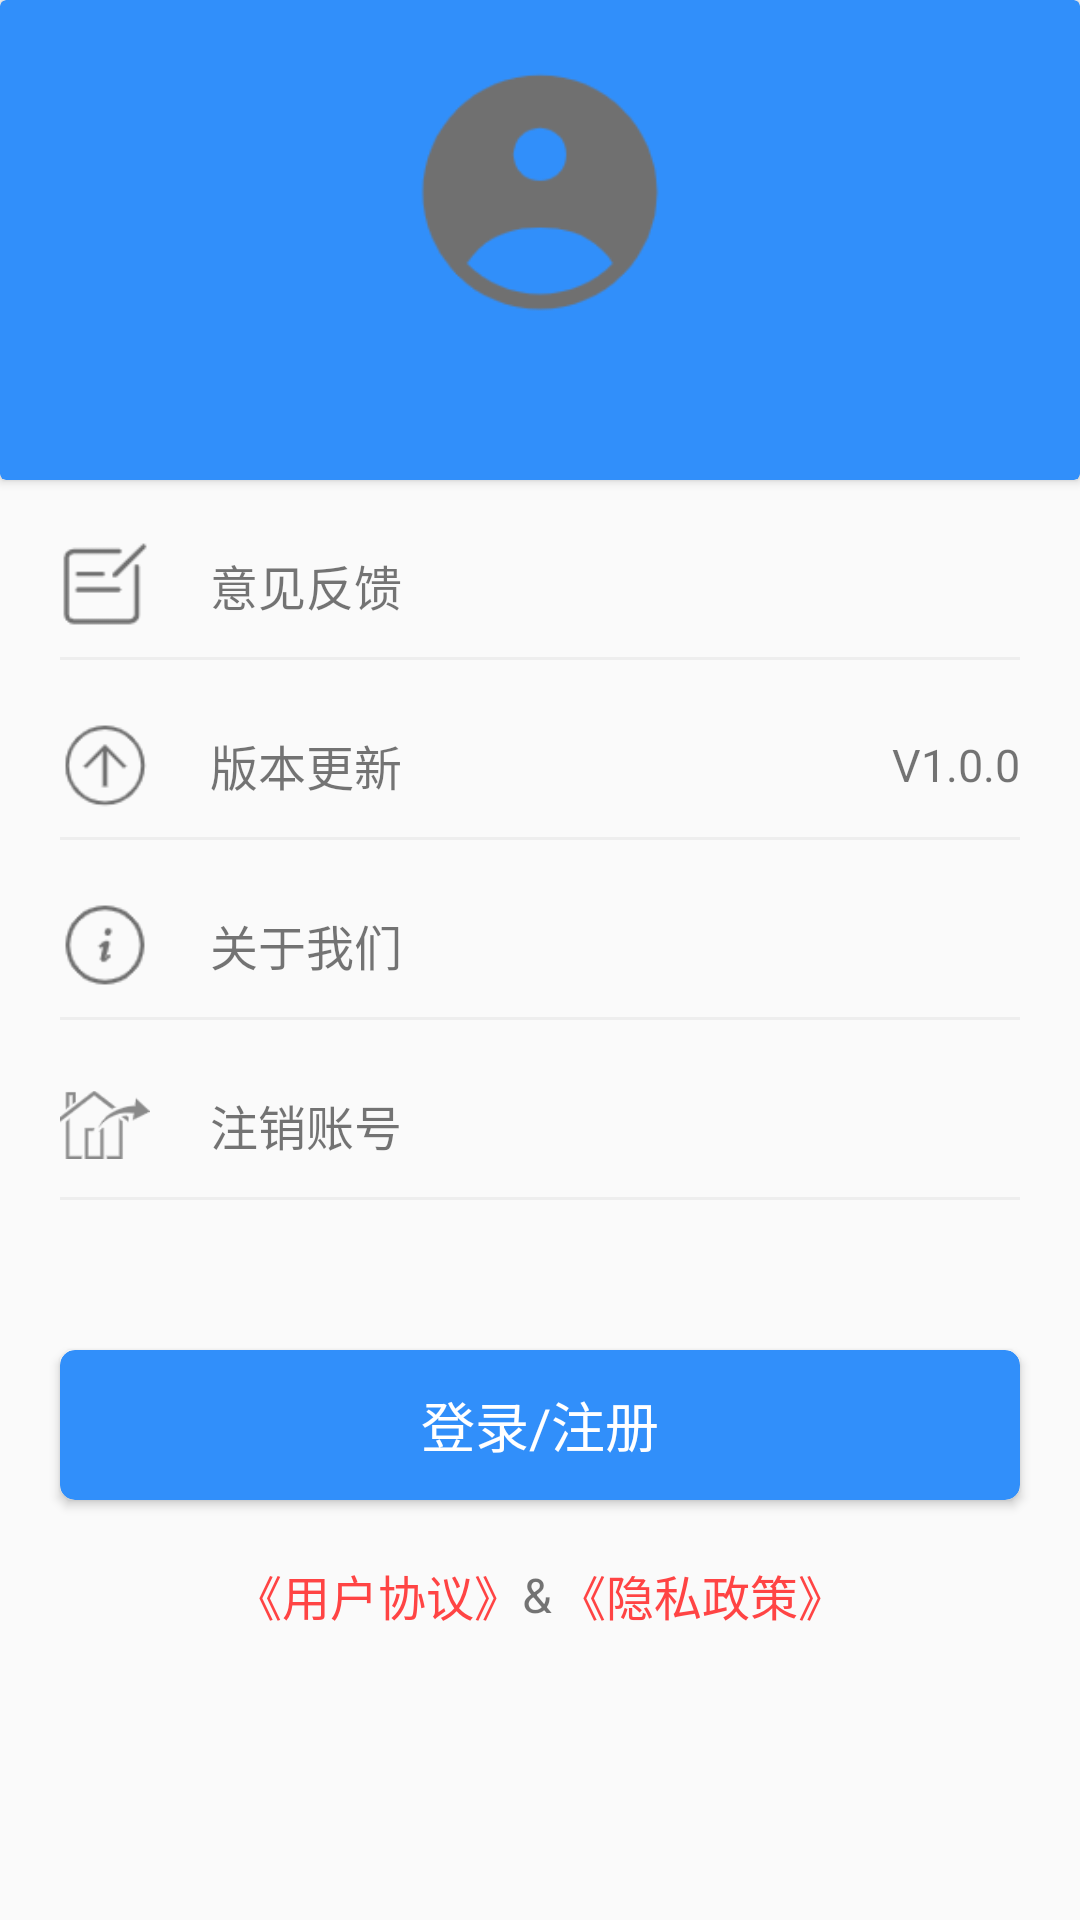

Where to tap for icons on this 1080 x 1920 app screen, as (x=x, y=y):
about: (x=105, y=945)
suggest: (x=105, y=584)
update: (x=105, y=765)
